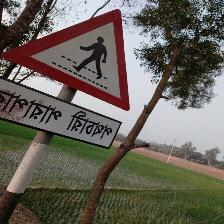Pedestrian-crossing: (0, 7, 131, 150)
